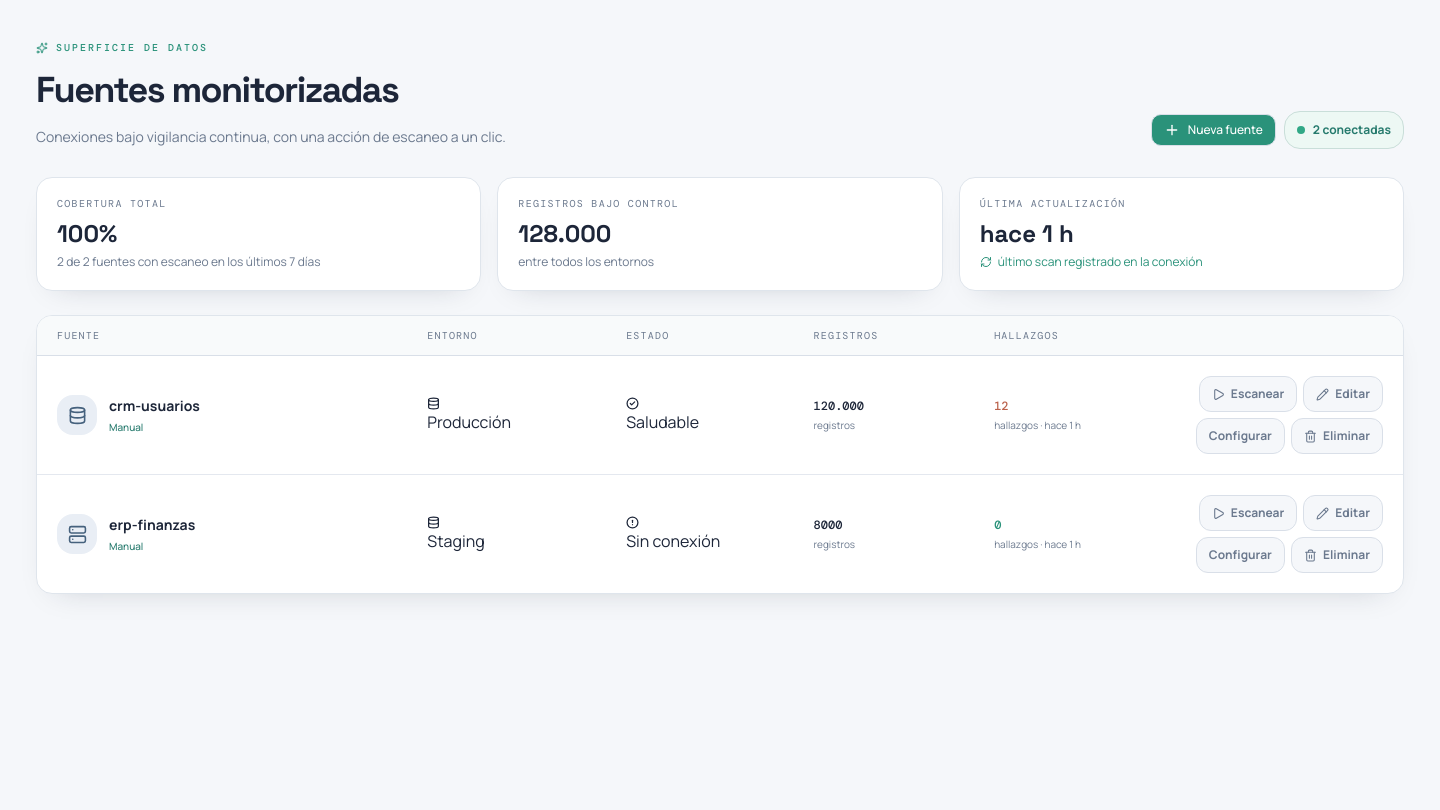
Test: SourcesPage — rol y diálogo de programación (M10.6) › 7. «Cancelar» cierra y desmonta el diálogo
The image size is (1440, 810).
Step 1. Click the button with test id "button-schedule-src-1" → (1240, 436), box [1196,418,1285,454]
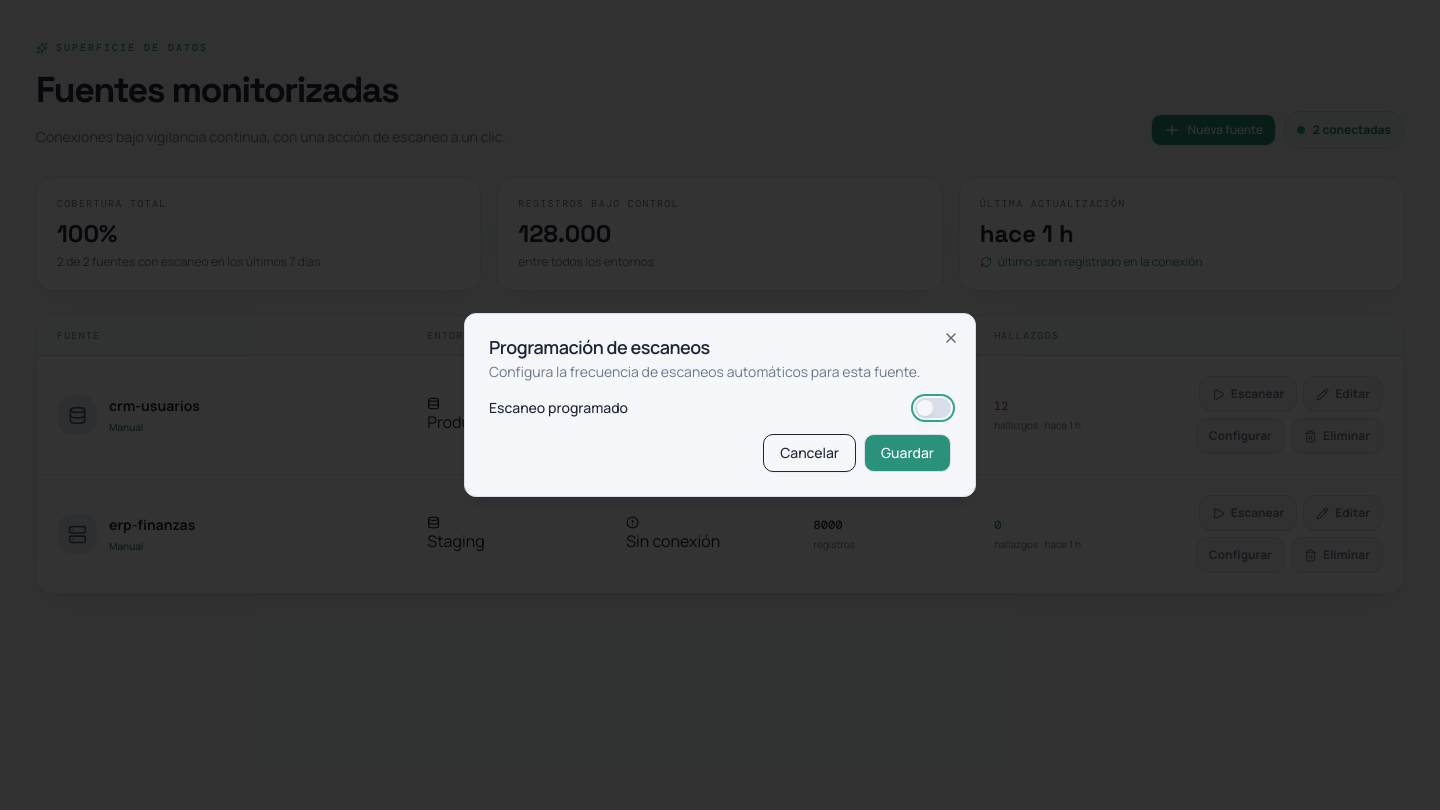
Step 2. Click the button "Cancelar" → (810, 453), box [763,434,856,472]
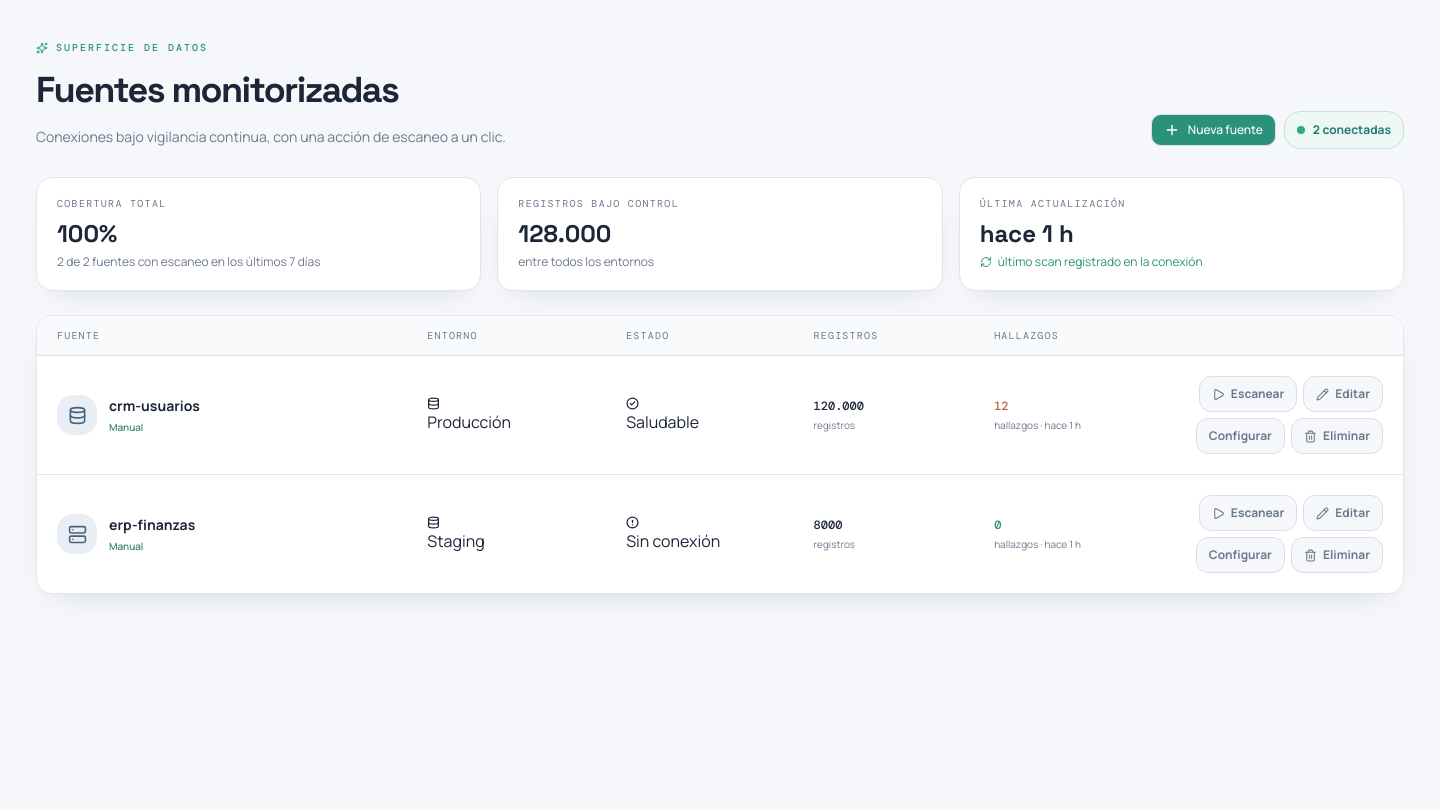
Result: the dialog is gone
